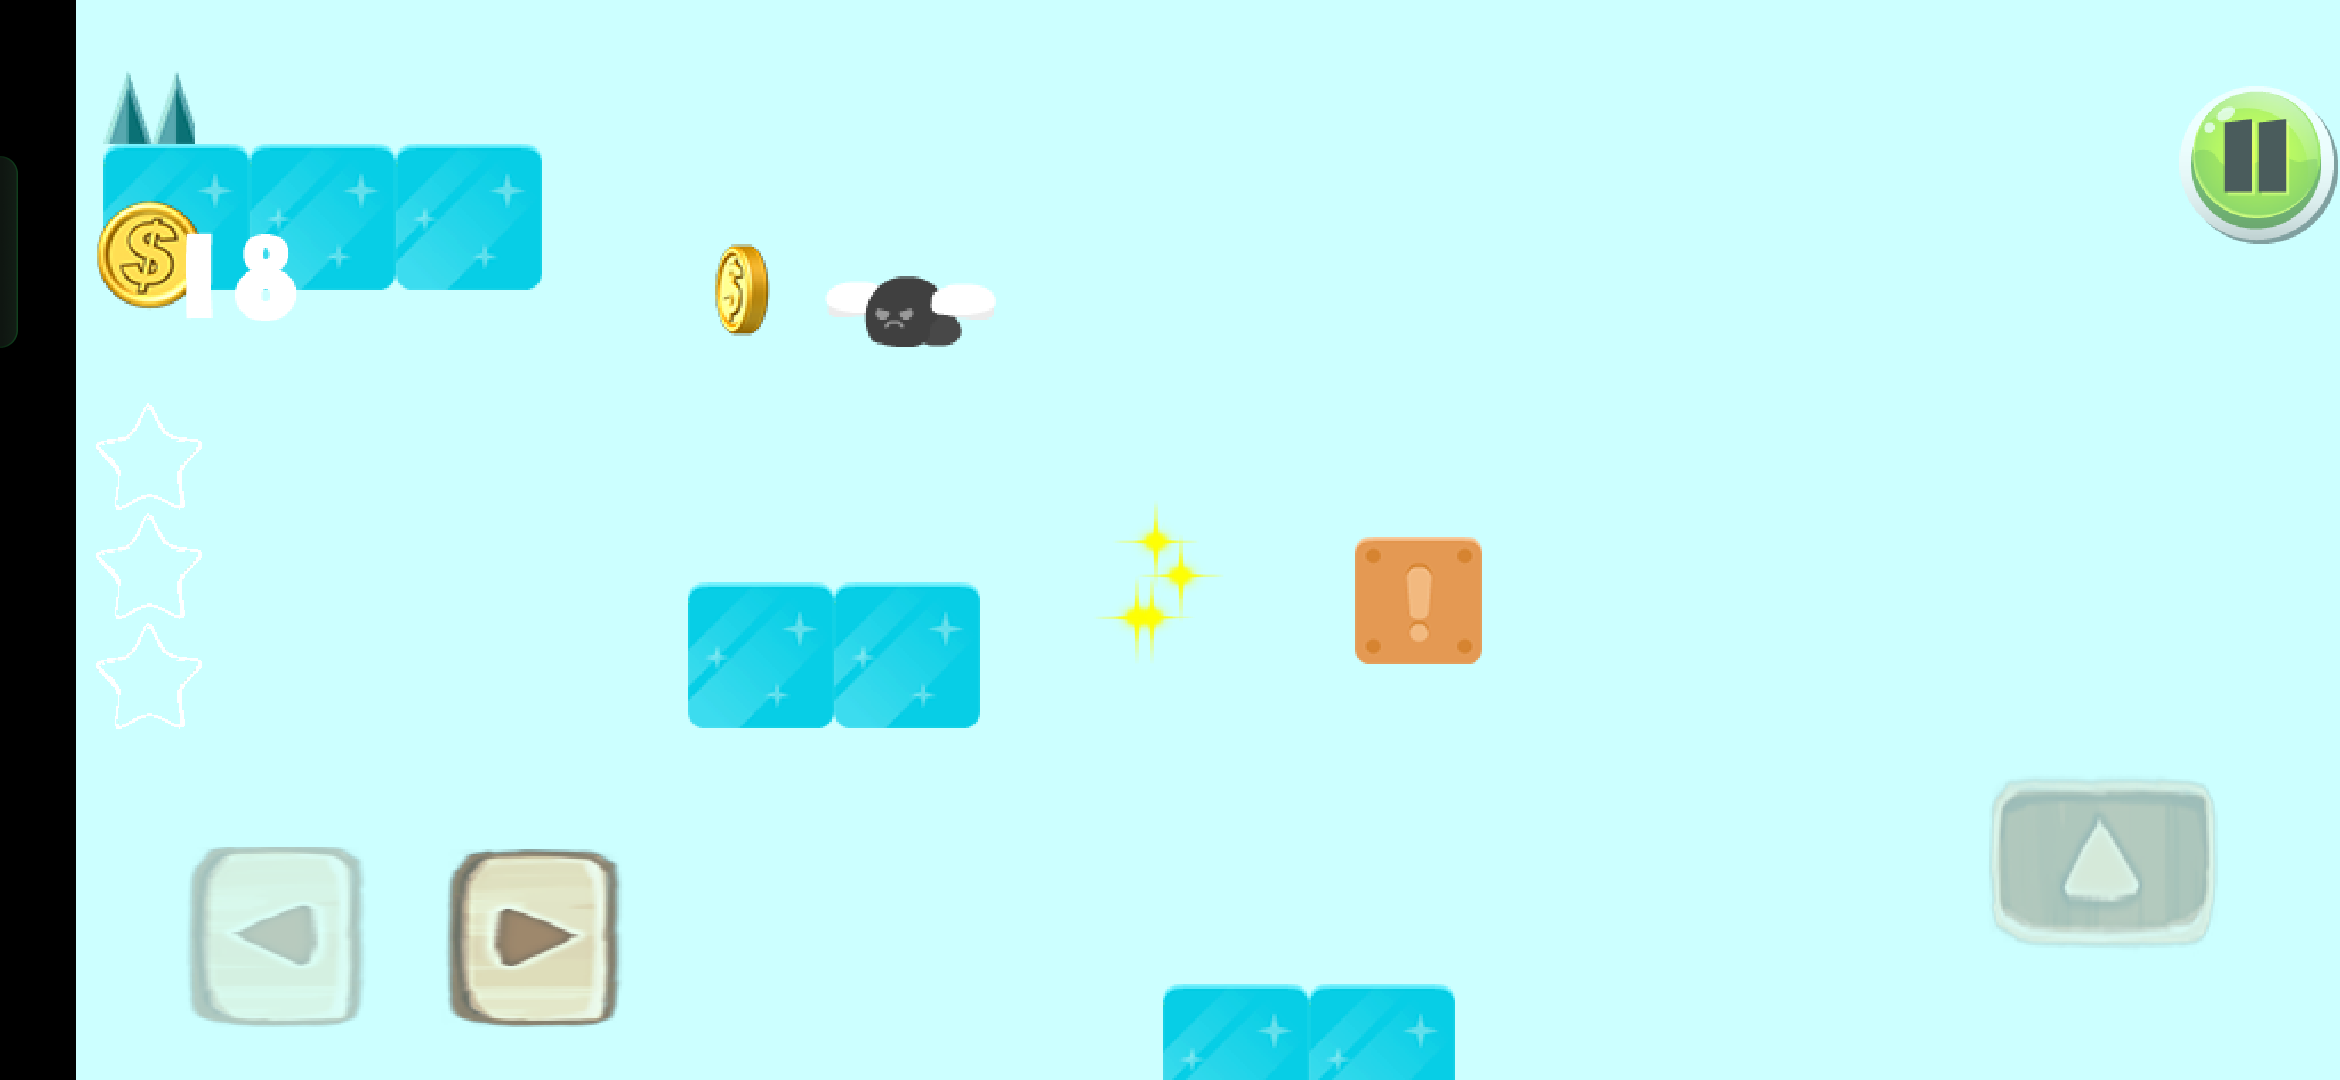Enemy: (834, 273, 992, 348)
